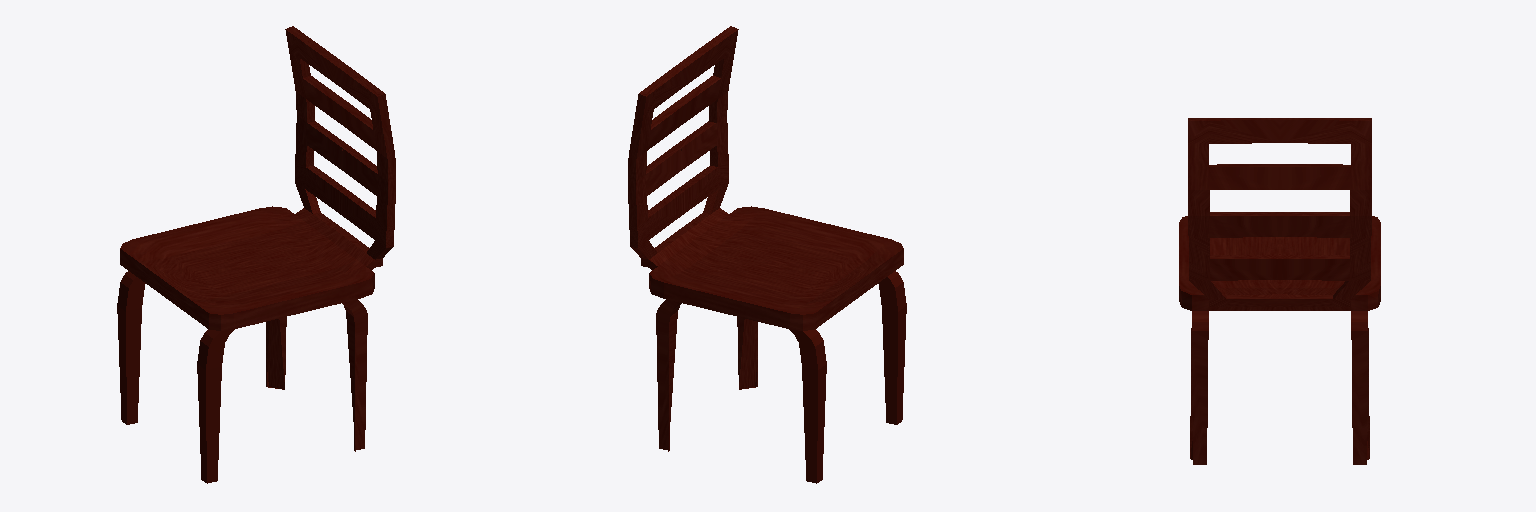
3 renders of one model, left to right at view 1: azimuth 30°, elevation 25°; view 2: azimuth 150°, elevation 25°; view 3: azimuth 270°, elevation 25°, orthographic.
Parts seen in each view (by area): view 1: Cube; view 2: Cube; view 3: Cube.
Boxes of the visible parts, box(x1,y1,x2,y2) form: Cube: box(117, 26, 395, 483); Cube: box(628, 26, 906, 483); Cube: box(1179, 118, 1380, 464).
Size of the model in its own units: 1.85 by 3.3 by 1.71.
1 materials, 1 textured.